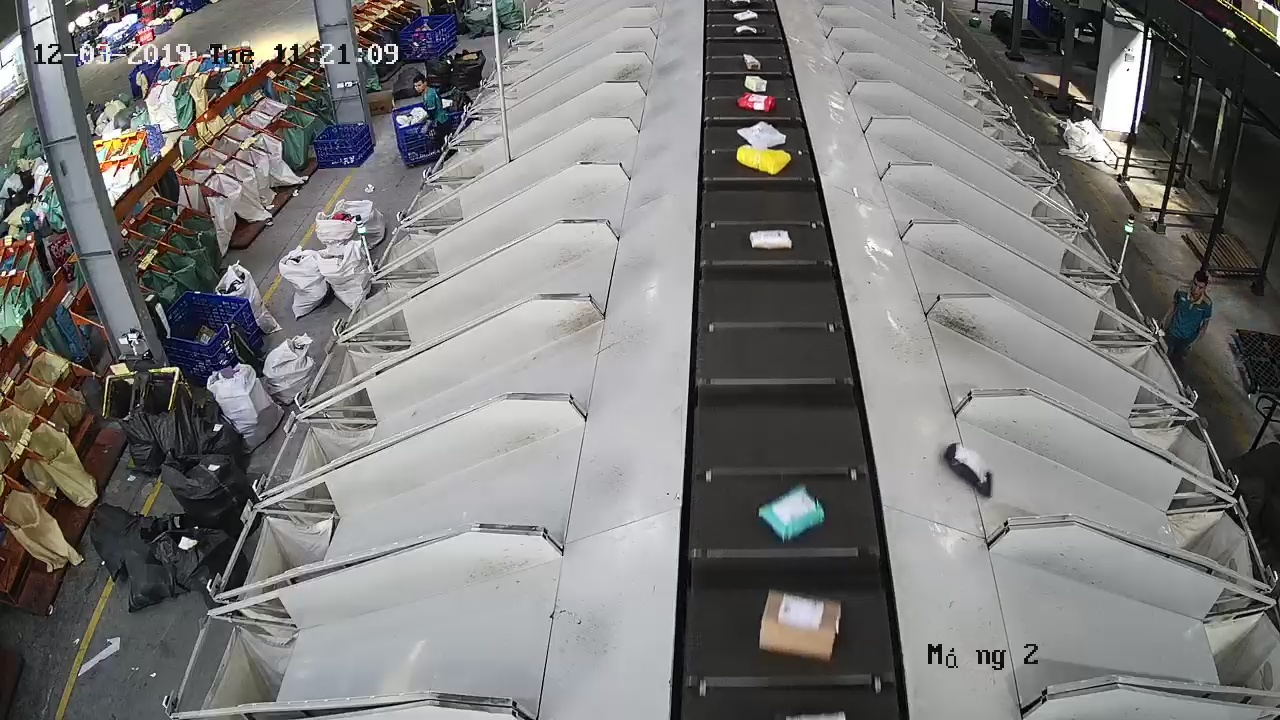parcel: (757, 587, 843, 665), (757, 483, 826, 544), (943, 441, 993, 497), (748, 228, 793, 251)
